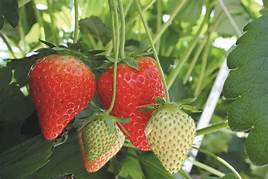Fresa: (94, 49, 171, 156), (24, 47, 99, 143)
